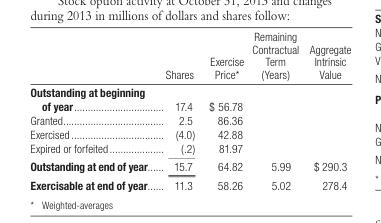table: (29, 29, 350, 191)
table column: (29, 29, 155, 191), (247, 29, 303, 191), (303, 29, 350, 191), (155, 29, 201, 191), (201, 29, 247, 191)
table column header: (29, 29, 350, 82)
table row: (29, 29, 350, 82), (29, 82, 350, 112), (29, 156, 350, 175), (29, 140, 350, 156), (29, 175, 350, 191), (29, 112, 350, 126), (29, 126, 350, 140)
